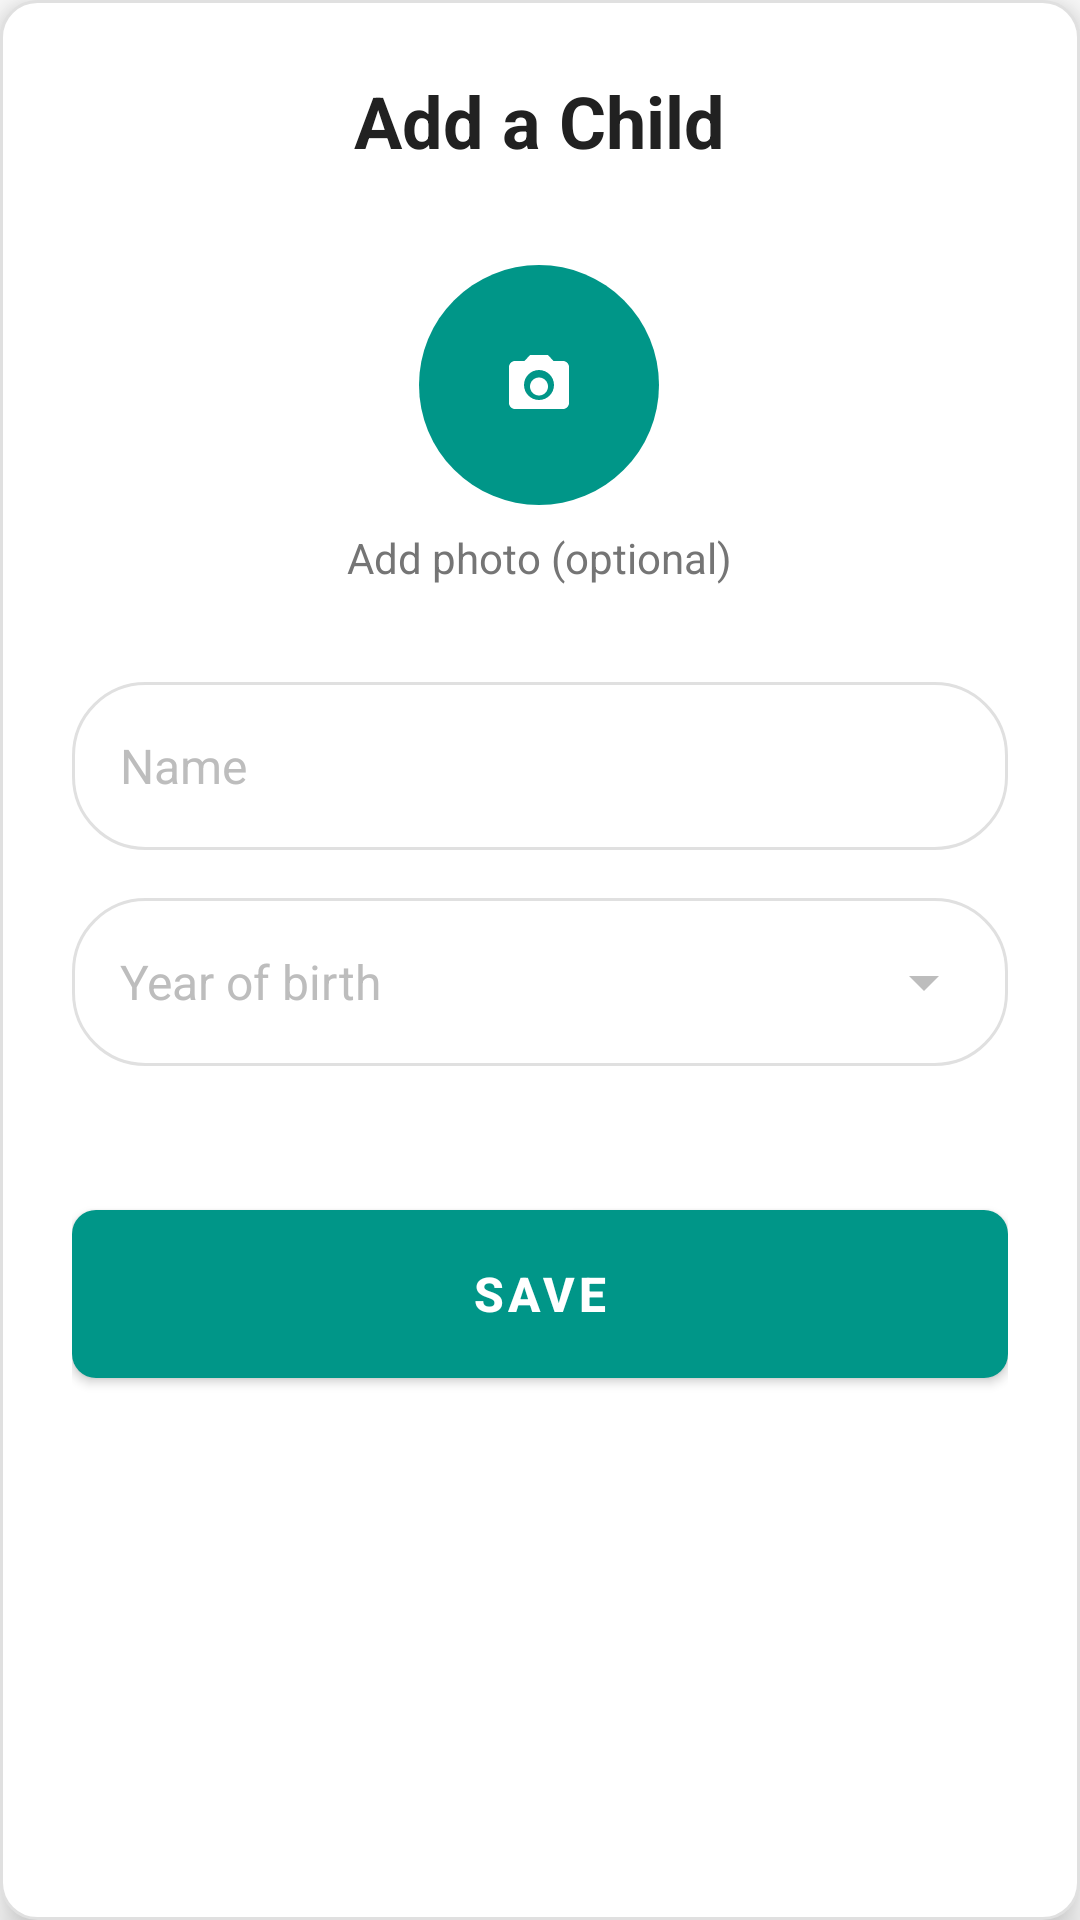

Point at icon controls on the screen. Image size 1080px x 1920px, points as (x,y).
Dropdown Arrow: (924,983)
